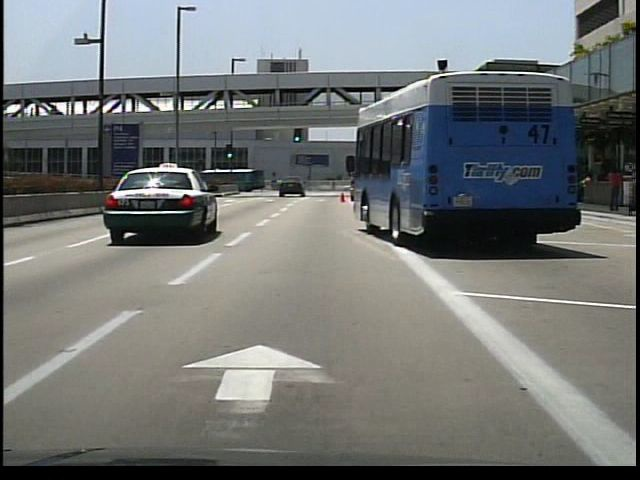person: (605, 162, 623, 214), (616, 161, 628, 209)
